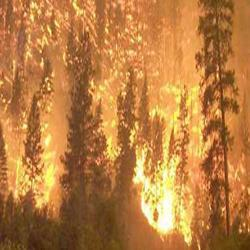fire: (136, 169, 179, 232)
